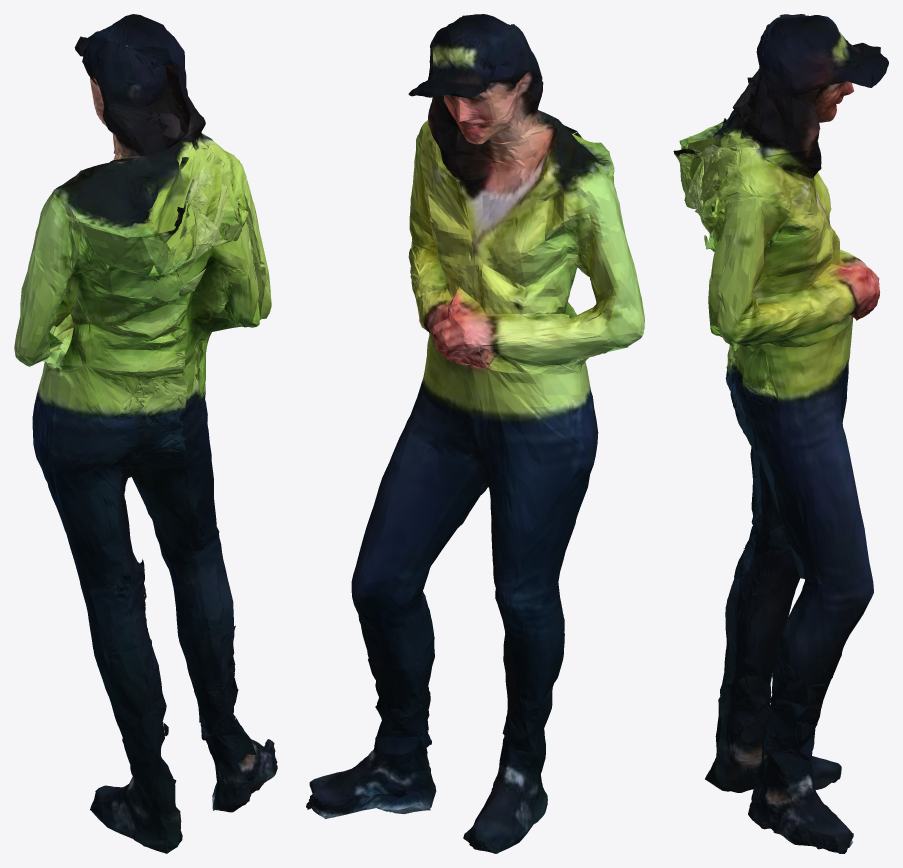
3 renders of one model, left to right at view 1: azimuth 30°, elevation 25°; view 2: azimuth 150°, elevation 25°; view 3: azimuth 270°, elevation 25°, orthographic. The views are drawn at different scales.
Parts seen in each view (by area): view 1: dec_0010; view 2: dec_0010; view 3: dec_0010.
Part boxes in pixels (x1,y1,x2,y2): dec_0010: (14, 14, 277, 853); dec_0010: (306, 14, 644, 853); dec_0010: (673, 14, 888, 853).
Size of the model in its own units: 0.6739 by 1.77 by 0.4464.
Materials: 1 (1 with a texture image).
